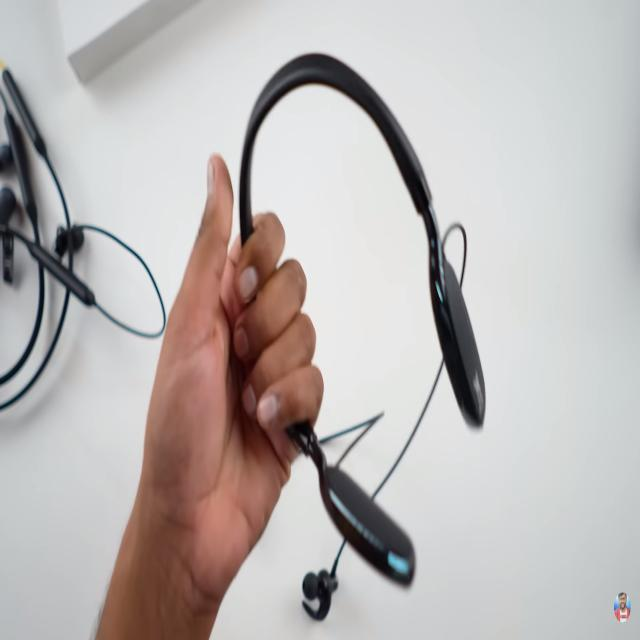Neckband: (240, 54, 488, 623)
